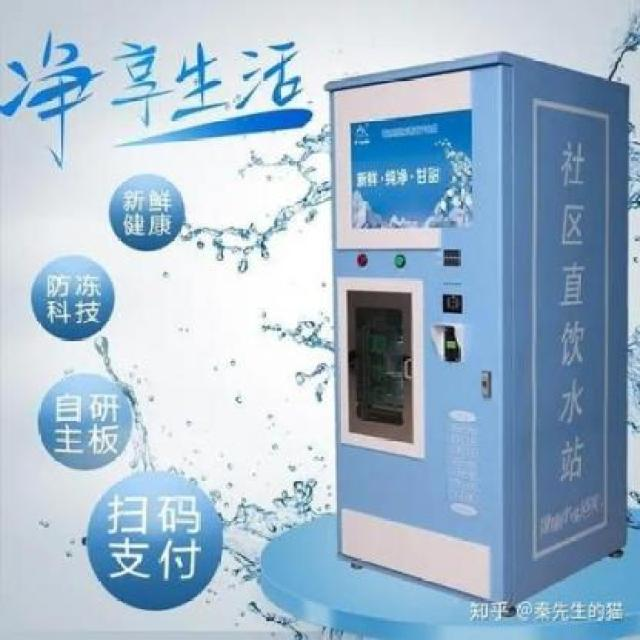cooler: (323, 49, 635, 618)
